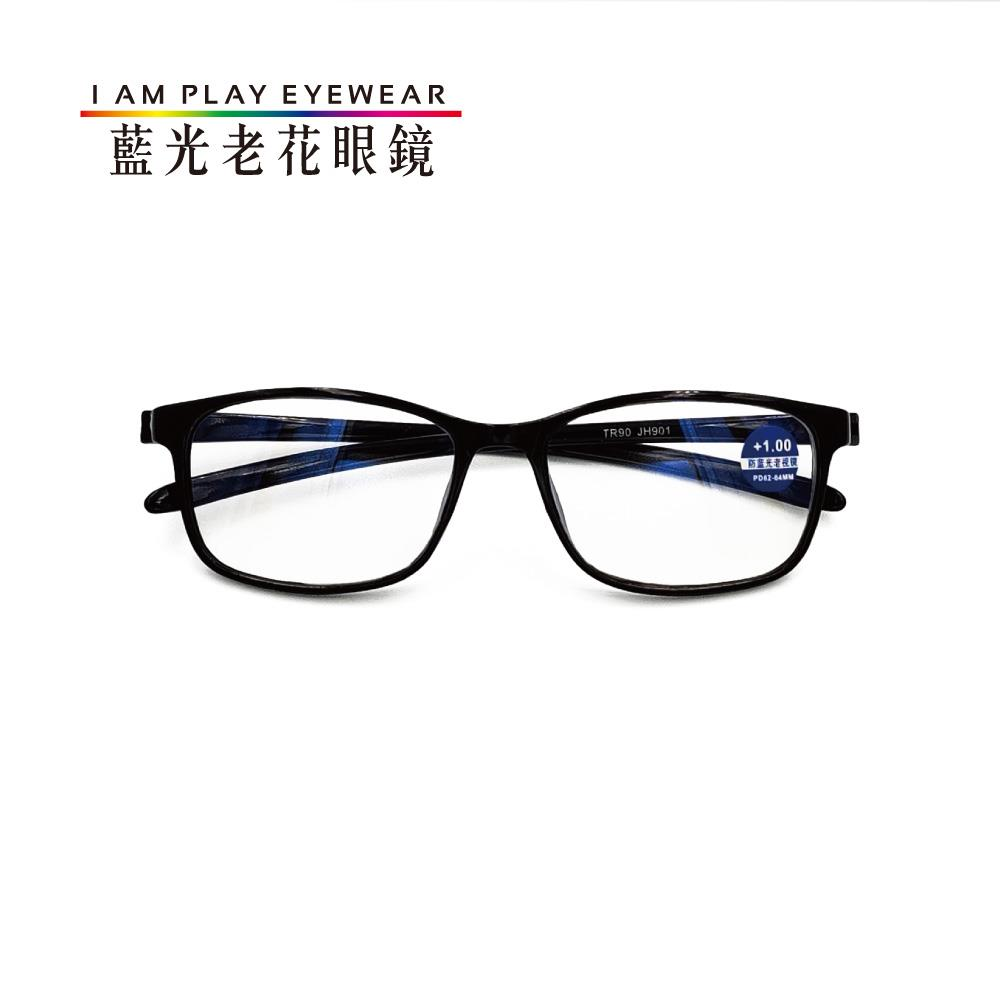glass: (122, 351, 871, 605)
